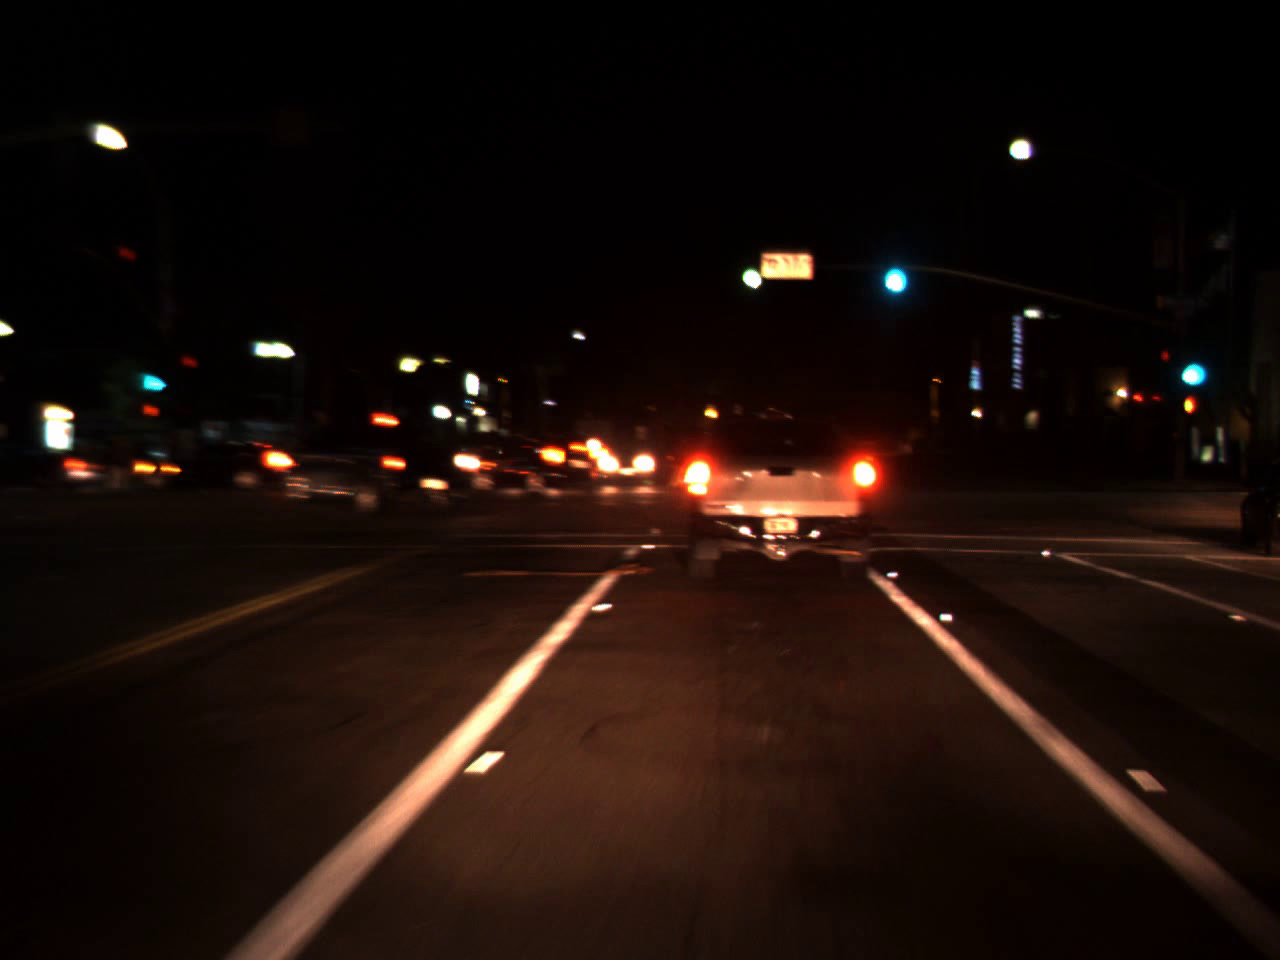go: (876, 237, 912, 303), (1174, 336, 1210, 393), (730, 247, 767, 295), (133, 355, 170, 397)
